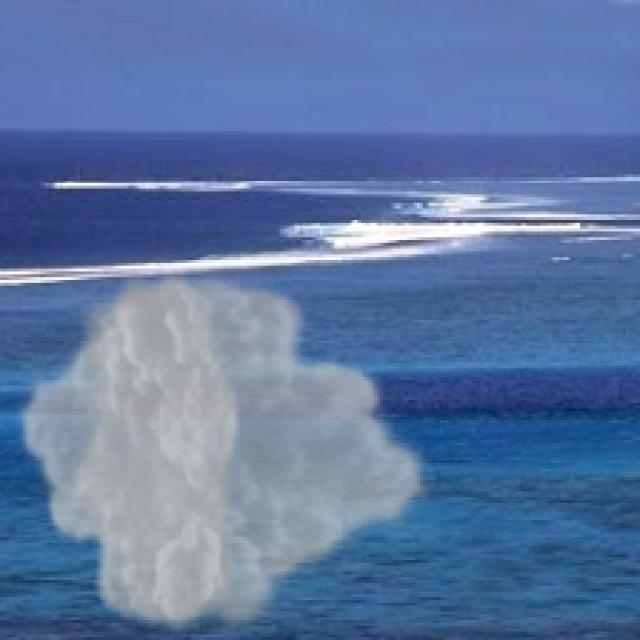Smoke: (14, 262, 437, 638)
